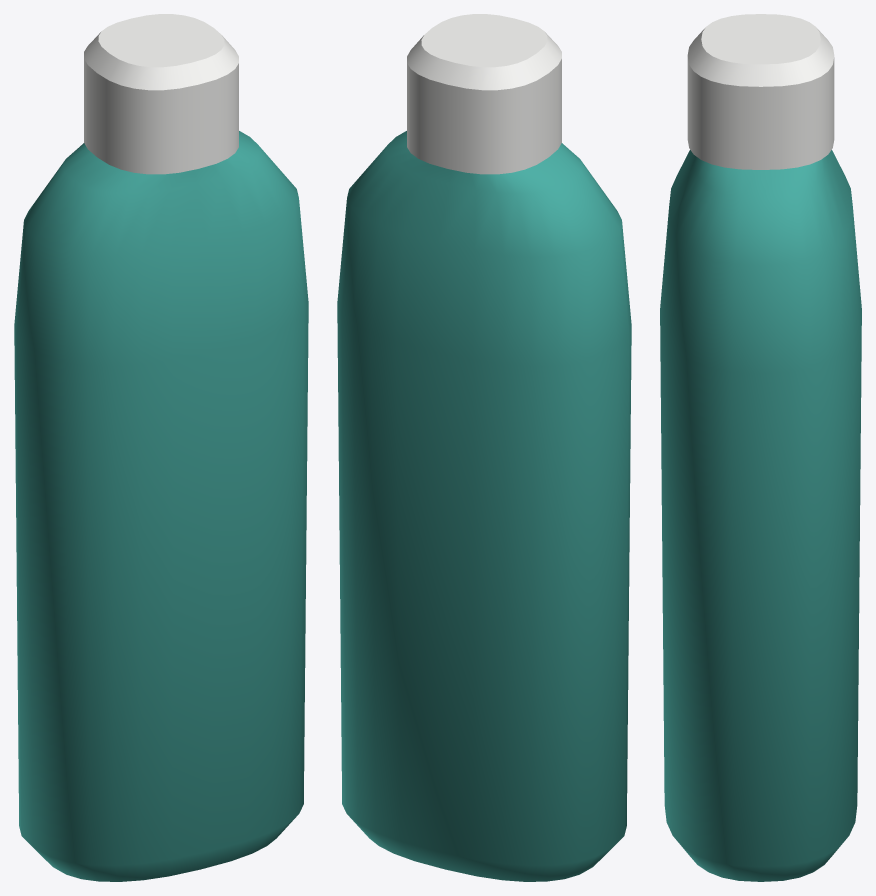
Rendered from shampoo_350ml.dae.
3 renders of one model, left to right at view 1: azimuth 30°, elevation 25°; view 2: azimuth 150°, elevation 25°; view 3: azimuth 270°, elevation 25°, orthographic.
Visible parts, largest first — view 1: Shampoo 350ml (×2); view 2: Shampoo 350ml (×2); view 3: Shampoo 350ml (×2).
Boxes of the visible parts, x1=… form: Shampoo 350ml (×2): x1=14, y1=14, x2=308, y2=881; Shampoo 350ml (×2): x1=337, y1=14, x2=631, y2=881; Shampoo 350ml (×2): x1=660, y1=14, x2=861, y2=881.
Size of the model in its own units: 66 by 44 by 190.
